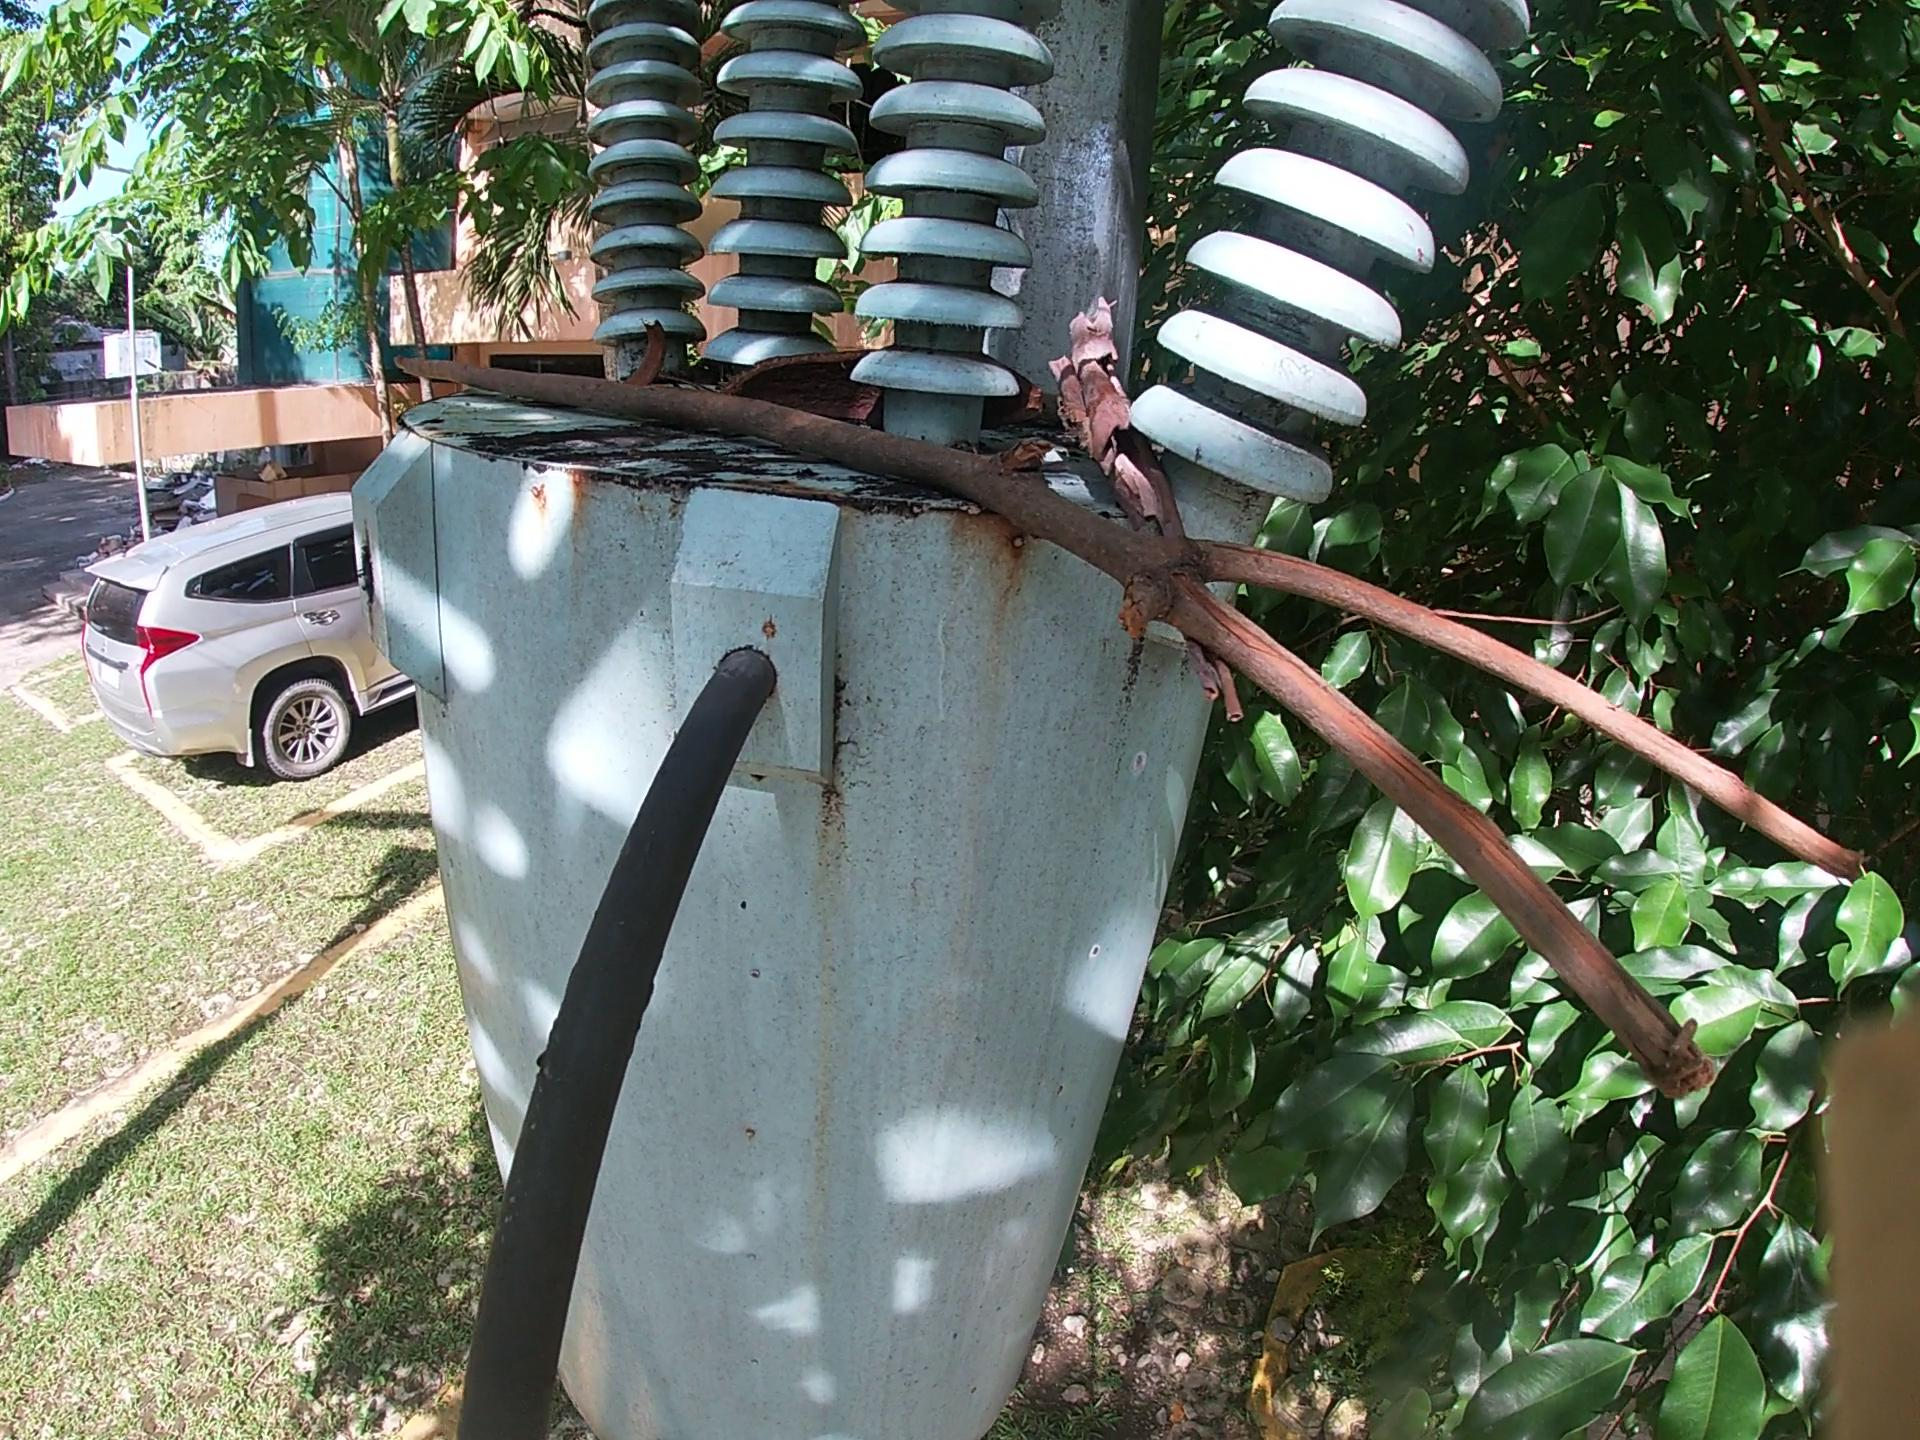mahogany fruit: (692, 337, 893, 411), (986, 365, 1061, 433), (614, 330, 688, 386)
tree branch: (379, 351, 1885, 1131), (1054, 306, 1264, 711)
